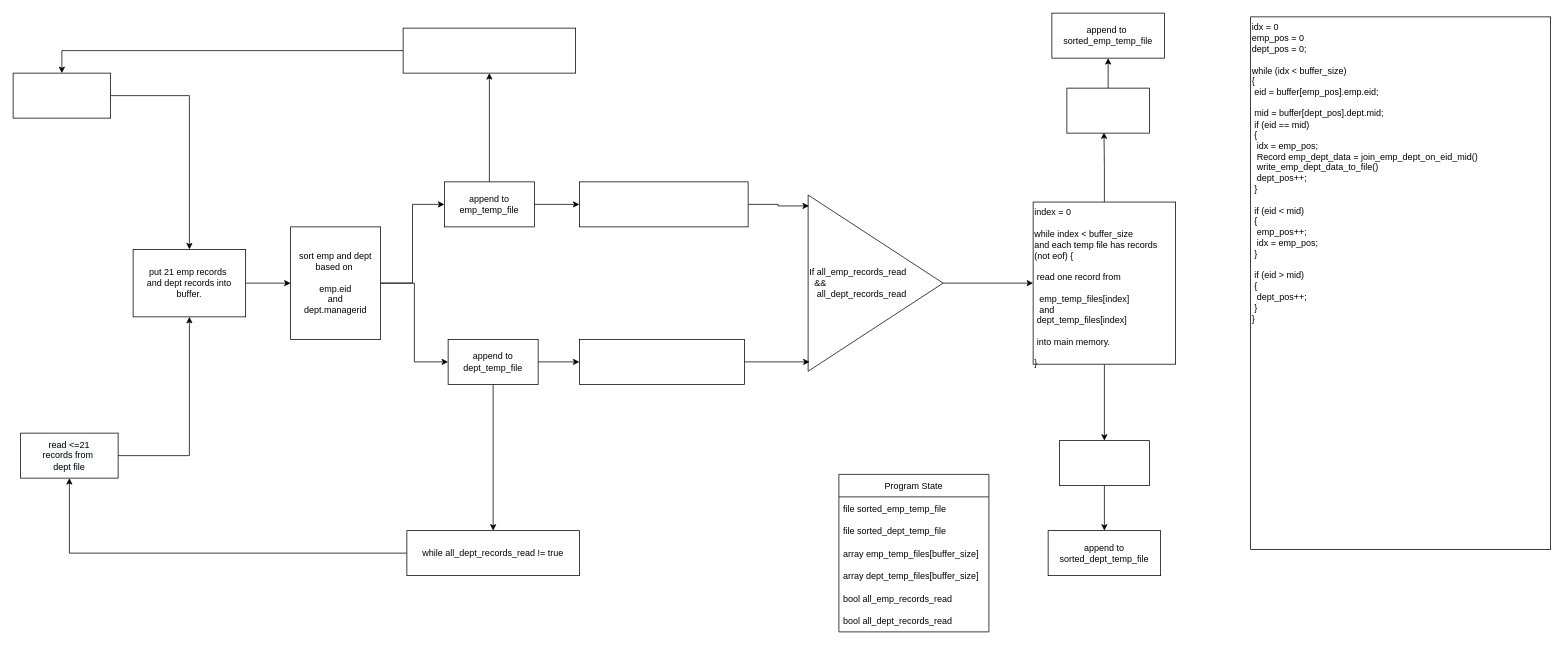
The diagram is 1564 pixels wide and 645 high, and some of its shapes have lost their labels. The centre of each missing label's shape, as x and y in pixels:
"all_dept_records_read == true" goes at point (661, 361).
"all_emp_records_read == true" goes at point (663, 204).
"read <=21 records from emp file" goes at point (61, 95).
"sort dept records" goes at point (1104, 463).
"sort emp records" goes at point (1107, 110).
"while all_emp_records_read != true" goes at point (489, 50).
